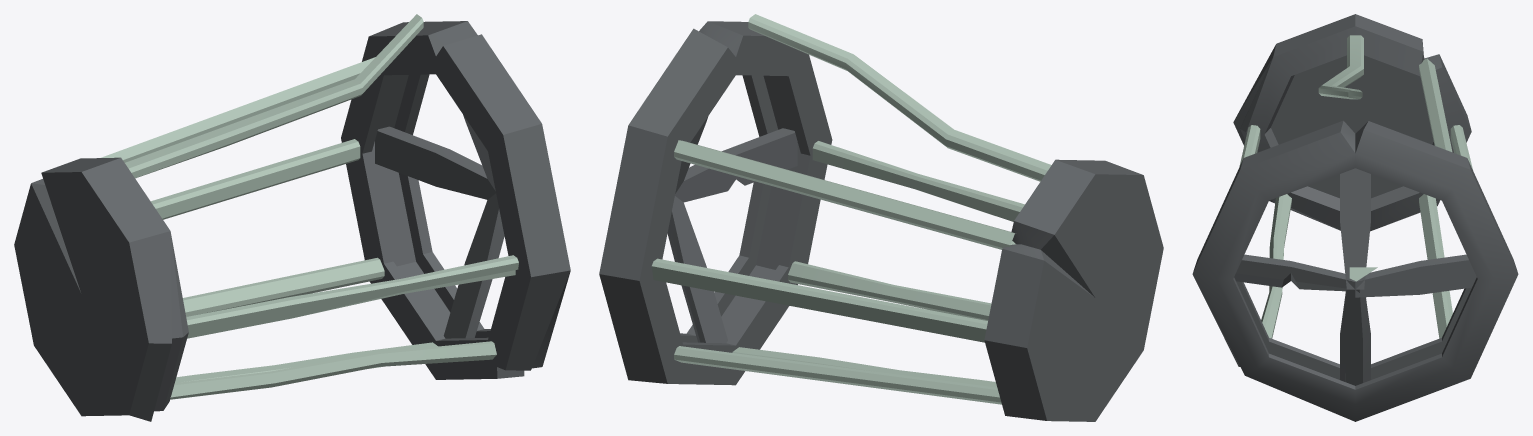
Rendered from SM_Broken_Cage.fbx.
The picture shows the model from 3 angles, left to right: view 1: azimuth 30°, elevation 25°; view 2: azimuth 150°, elevation 25°; view 3: azimuth 270°, elevation 25°; orthographic projection. The views are drawn at different scales.
Visible parts, largest first — view 1: SM_Broken_Cage; view 2: SM_Broken_Cage; view 3: SM_Broken_Cage.
Boxes of the visible parts, box(x1,y1,x2,y2) form: SM_Broken_Cage: box(14, 14, 570, 421); SM_Broken_Cage: box(599, 14, 1163, 421); SM_Broken_Cage: box(1192, 14, 1518, 421).
Size of the model in its own units: 142 by 110 by 104.
